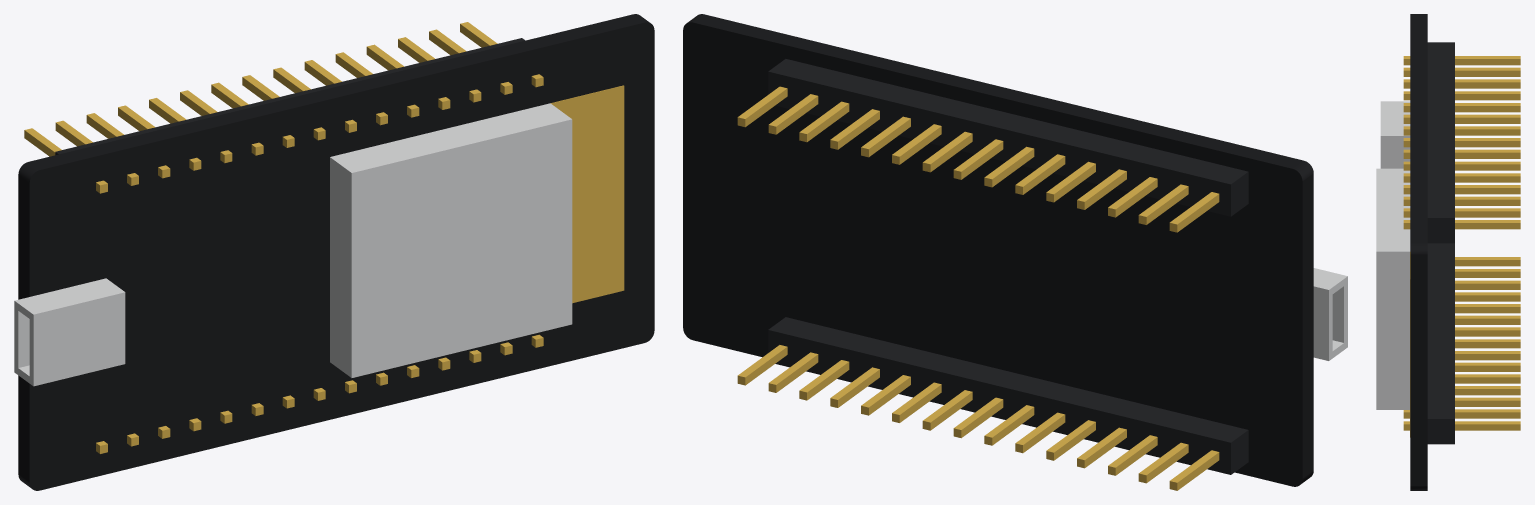
Rendered from esp32-nodemcu-bb.glb.
3 views of the same model, side by side, from view 1: azimuth 30°, elevation 25°; view 2: azimuth 150°, elevation 25°; view 3: azimuth 270°, elevation 25° (orthographic). The views are drawn at different scales.
Parts seen in each view (by area): view 1: board, esp32_module, antenna_trace_2, usb, header_4_pins, header_3_pins, header_4; view 2: board, header_4, header_3, header_4_pins, header_3_pins, usb; view 3: header_4_pins, header_3_pins, board, esp32_module, header_3, header_4, usb, antenna_trace_2.
Part boxes in pixels (left/top/right/bottom): board: left=18, top=14, right=654, bottom=490; esp32_module: left=330, top=103, right=572, bottom=377; antenna_trace_2: left=550, top=85, right=624, bottom=303; usb: left=14, top=278, right=125, bottom=386; header_4_pins: left=24, top=22, right=543, bottom=193; header_3_pins: left=96, top=334, right=543, bottom=453; header_4: left=55, top=38, right=525, bottom=155; board: left=683, top=14, right=1313, bottom=486; header_4: left=768, top=59, right=1248, bottom=216; header_3: left=768, top=317, right=1248, bottom=474; header_4_pins: left=737, top=86, right=1219, bottom=232; header_3_pins: left=737, top=345, right=1219, bottom=490; usb: left=1313, top=268, right=1347, bottom=360; header_4_pins: left=1403, top=56, right=1520, bottom=229; header_3_pins: left=1403, top=257, right=1520, bottom=430; board: left=1410, top=14, right=1427, bottom=490; esp32_module: left=1376, top=168, right=1410, bottom=409; header_3: left=1427, top=243, right=1454, bottom=444; header_4: left=1427, top=42, right=1454, bottom=243; usb: left=1380, top=101, right=1410, bottom=168; antenna_trace_2: left=1410, top=252, right=1410, bottom=437.
Bounding box in the file's own units: 52.25 × 25 × 13.2.
